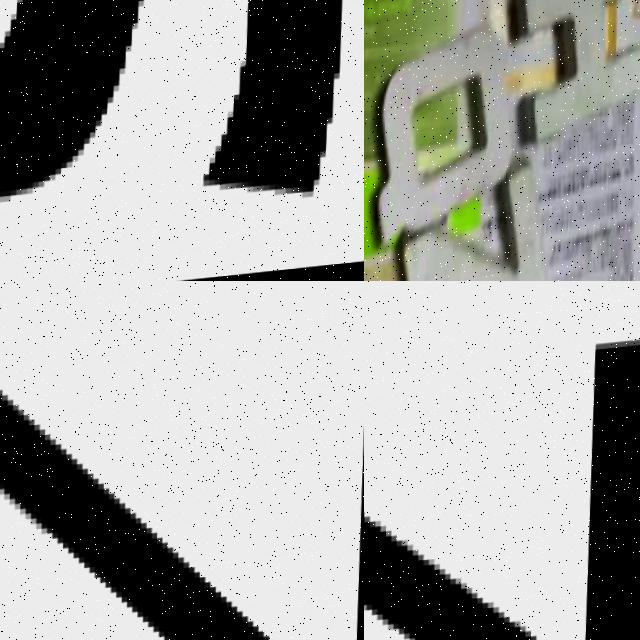H: (513, 0, 640, 158)
Q: (364, 29, 524, 261)
S: (0, 0, 364, 257)
Z: (0, 292, 364, 640), (364, 329, 640, 640), (398, 161, 562, 281)
